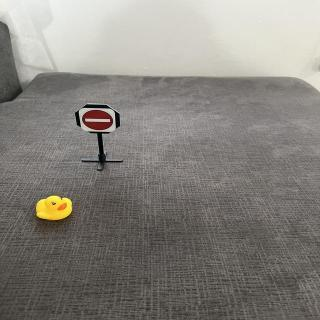duck_regular: (35, 195, 75, 222)
sign_noentry: (79, 107, 118, 135)
